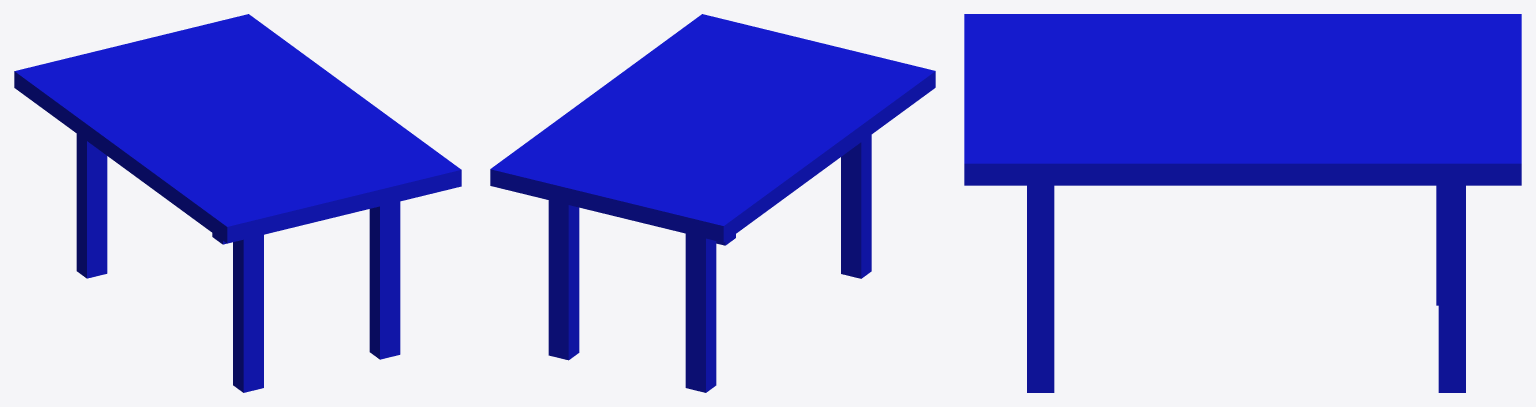
File: table.gltf
The picture shows the model from 3 angles, left to right: view 1: azimuth 30°, elevation 25°; view 2: azimuth 150°, elevation 25°; view 3: azimuth 270°, elevation 25°; orthographic projection. The views are drawn at different scales.
Parts seen in each view (by area): view 1: Leg1.004; view 2: Leg1.004; view 3: Leg1.004.
Boxes of the visible parts, x1,y1,x2,y2 form: Leg1.004: (14,14,461,392); Leg1.004: (490,14,935,392); Leg1.004: (964,14,1521,392).
Bounding box in the file's own units: 3.47 × 2.74 × 5.46.
